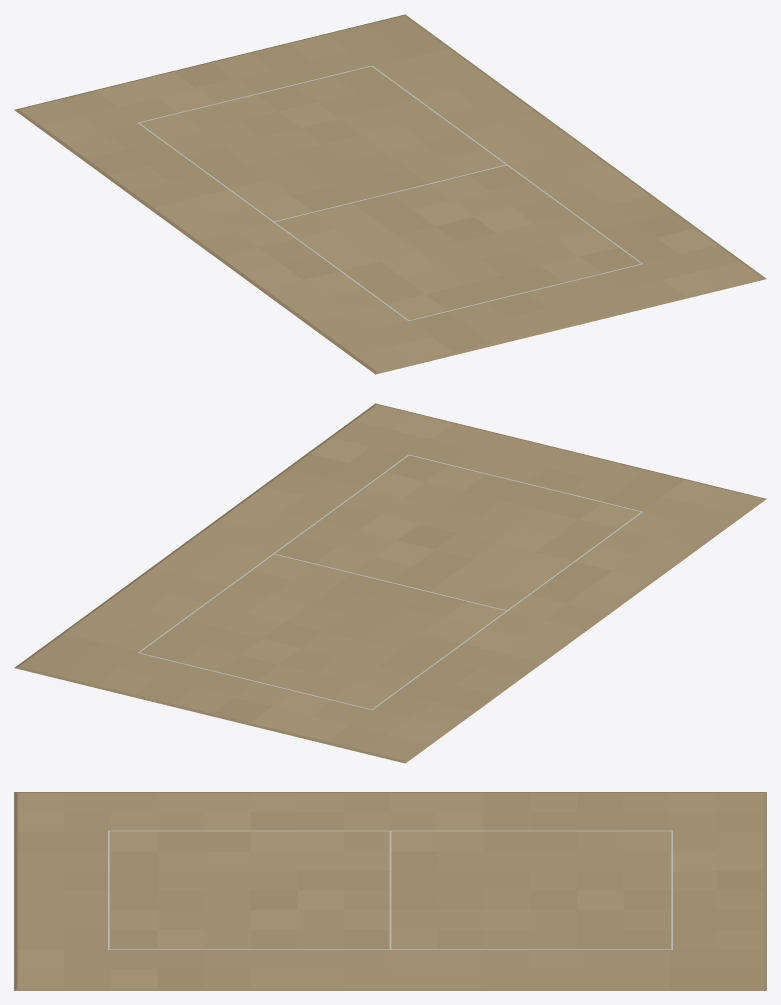
File: sport.court_sand.sand.glb
The picture shows the model from 3 angles, top to bottom: view 1: azimuth 30°, elevation 25°; view 2: azimuth 150°, elevation 25°; view 3: azimuth 270°, elevation 25°; orthographic projection. The views are drawn at different scales.
Parts seen in each view (by area): view 1: sport_court_sand_sand; view 2: sport_court_sand_sand; view 3: sport_court_sand_sand.
Part boxes in pixels (x1=…): sport_court_sand_sand: x1=14, y1=14, x2=766, y2=374; sport_court_sand_sand: x1=14, y1=403, x2=766, y2=763; sport_court_sand_sand: x1=14, y1=792, x2=766, y2=990.
Size of what is drawn, in the model's own units: 15 by 0.04 by 24.
